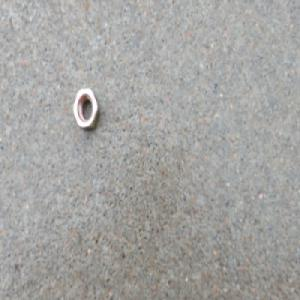Nut: (72, 85, 99, 131)
